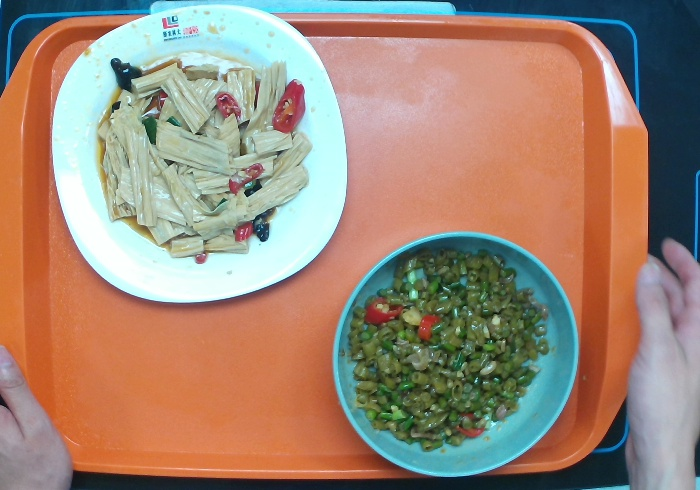ZNLD-Qing_Hua_Yuan_Wan: (328, 228, 582, 482)
ZNLD-Yuan_Jiao_Pan: (47, 1, 347, 309)
